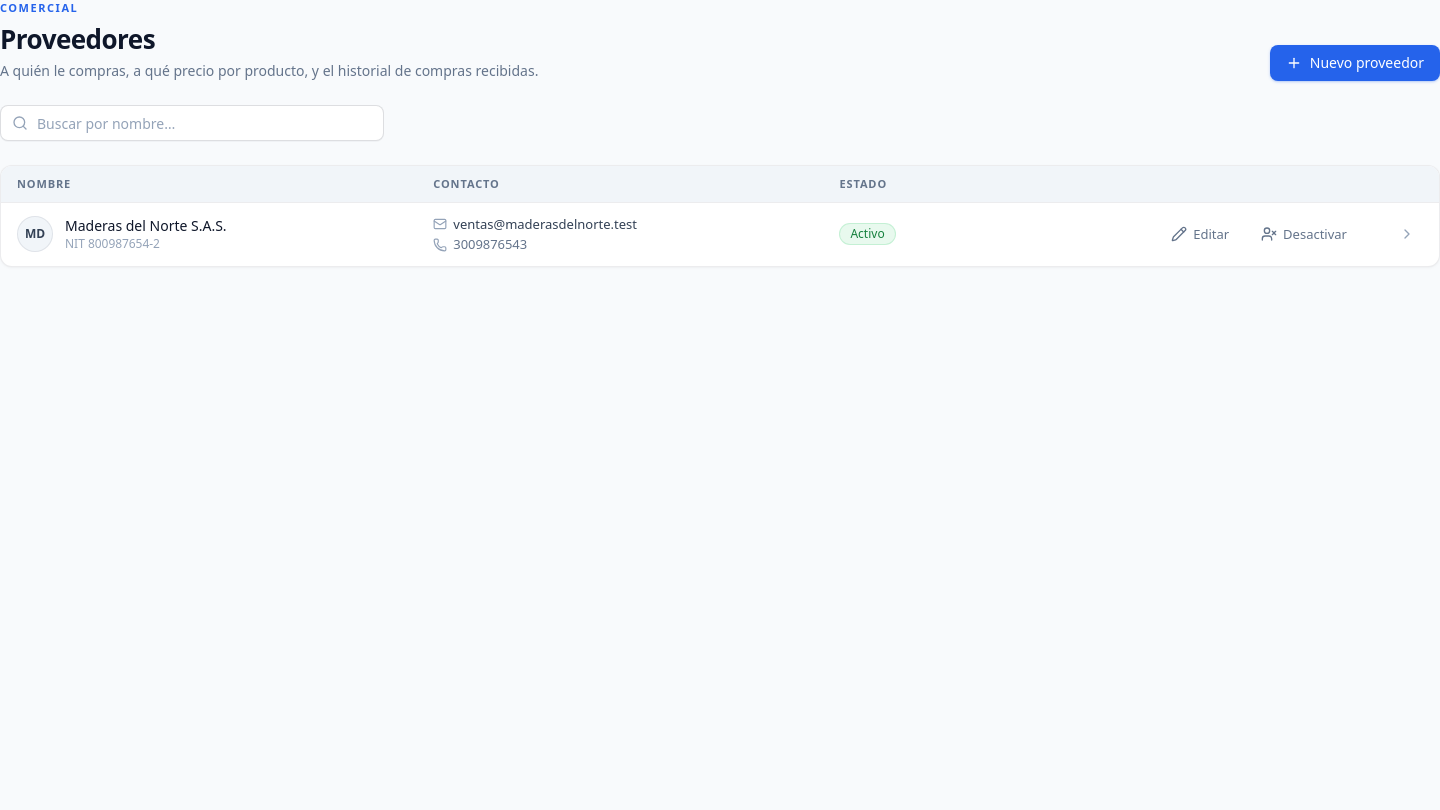
Test: SuppliersPage › opens the edit modal pre-filled with the selected supplier
Click the button "Editar": (1200, 234) [1159, 218, 1241, 250]
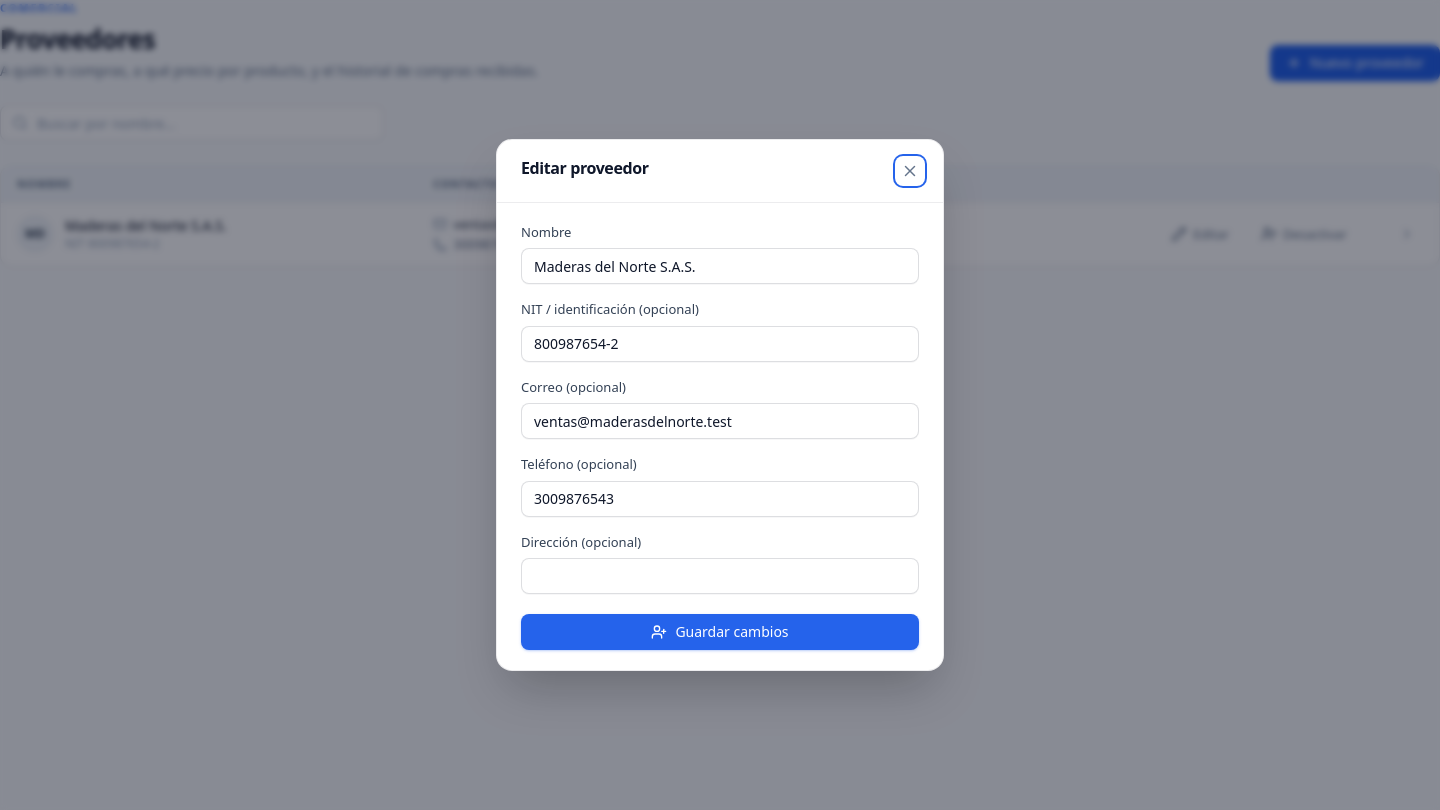
expect the dialog "Editar proveedor" is shown: met, box [496, 139, 944, 671]
expect the field labelled "Nombre" holds "Maderas del Norte S.A.S.": met, box [521, 248, 919, 284]
expect the button "Guardar cambios" is shown: met, box [521, 614, 919, 650]
